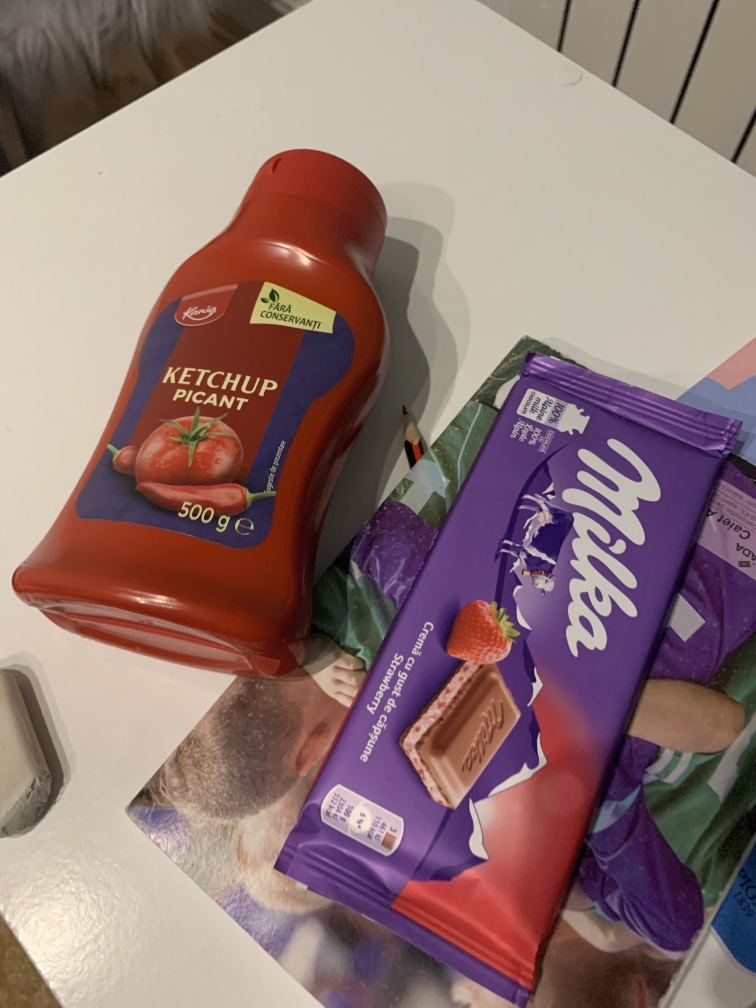ketchup: (10, 144, 393, 679)
milka: (273, 351, 746, 1008)
